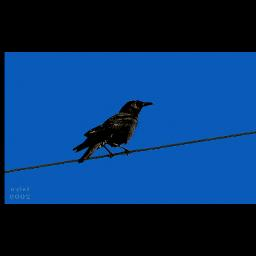Crow: (71, 99, 157, 164)
